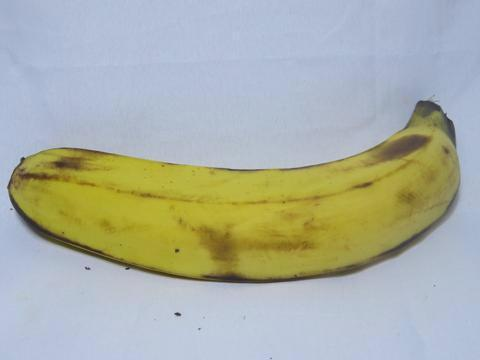ripe: (5, 94, 479, 303)
